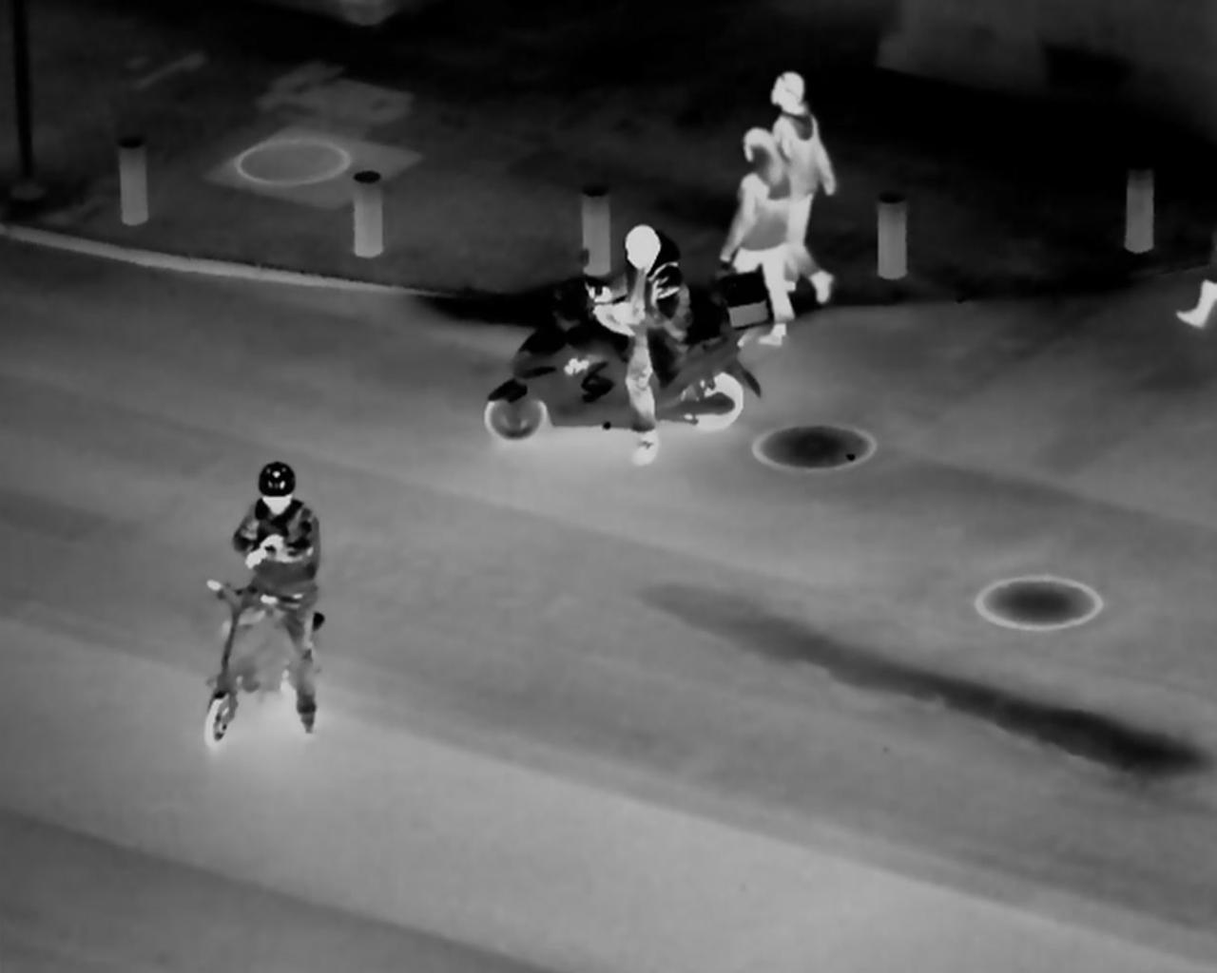person: (204, 453, 339, 735), (587, 219, 700, 461), (750, 63, 843, 299), (724, 123, 795, 358)
